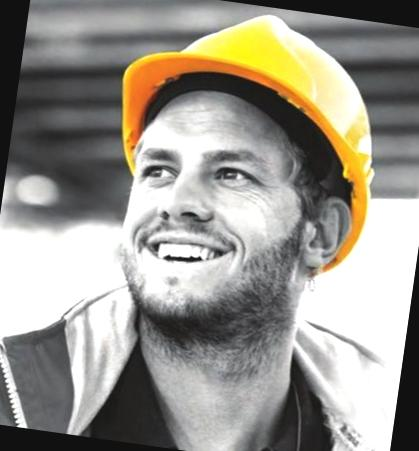helmet: (97, 0, 398, 270)
person: (68, 0, 397, 451)
